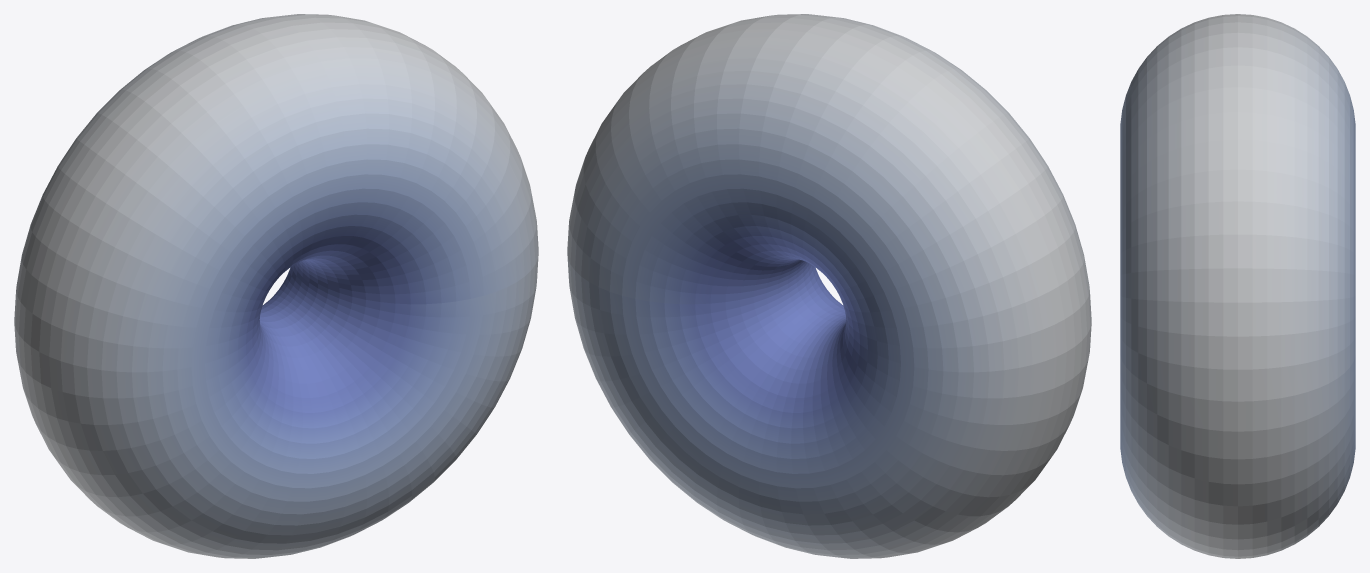
The picture shows the model from 3 angles, left to right: view 1: azimuth 30°, elevation 25°; view 2: azimuth 150°, elevation 25°; view 3: azimuth 270°, elevation 25°; orthographic projection. The views are drawn at different scales.
Parts seen in each view (by area): view 1: world; view 2: world; view 3: world.
Boxes of the visible parts, <box> form: world: <box>14,14,538,558</box>; world: <box>567,14,1091,558</box>; world: <box>1120,14,1355,558</box>.
Size of the model in its own units: 18.8 by 18.76 by 8.12.
